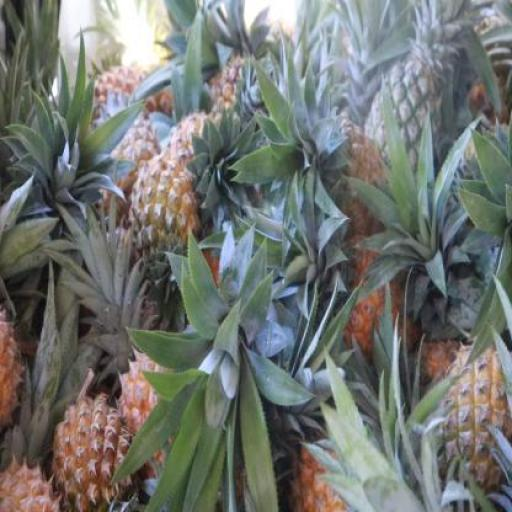------------------------------: (130, 150, 197, 283)
Pineapple - v8 v1: (53, 394, 130, 512)
